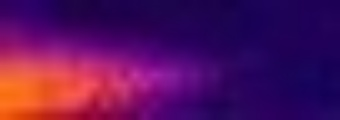Shadow: (125, 1, 340, 120), (1, 1, 125, 61)
